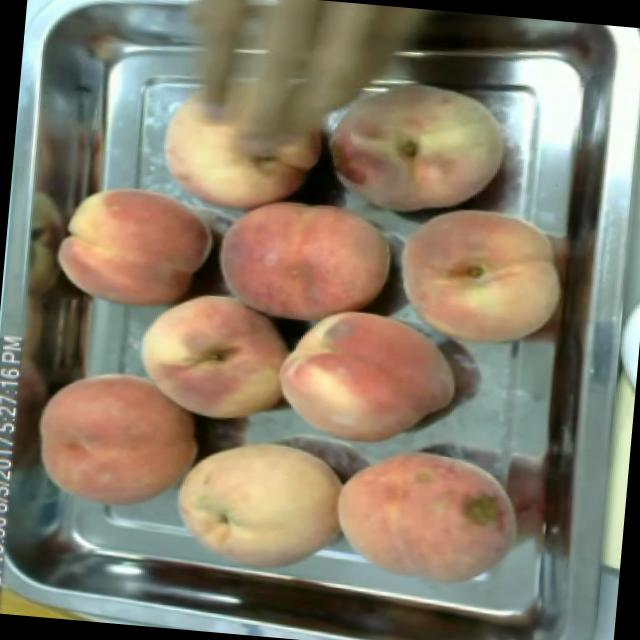Fruit: (143, 0, 357, 232), (318, 433, 534, 604), (264, 292, 468, 458), (312, 62, 518, 226), (159, 420, 358, 586), (384, 192, 572, 360), (20, 356, 212, 520), (204, 182, 404, 330), (36, 166, 226, 320), (122, 277, 304, 437)
